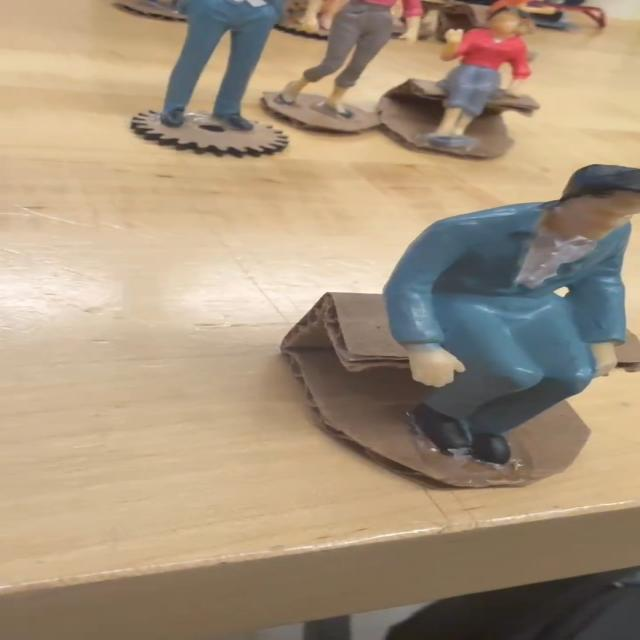Authorized: (373, 163, 638, 466)
